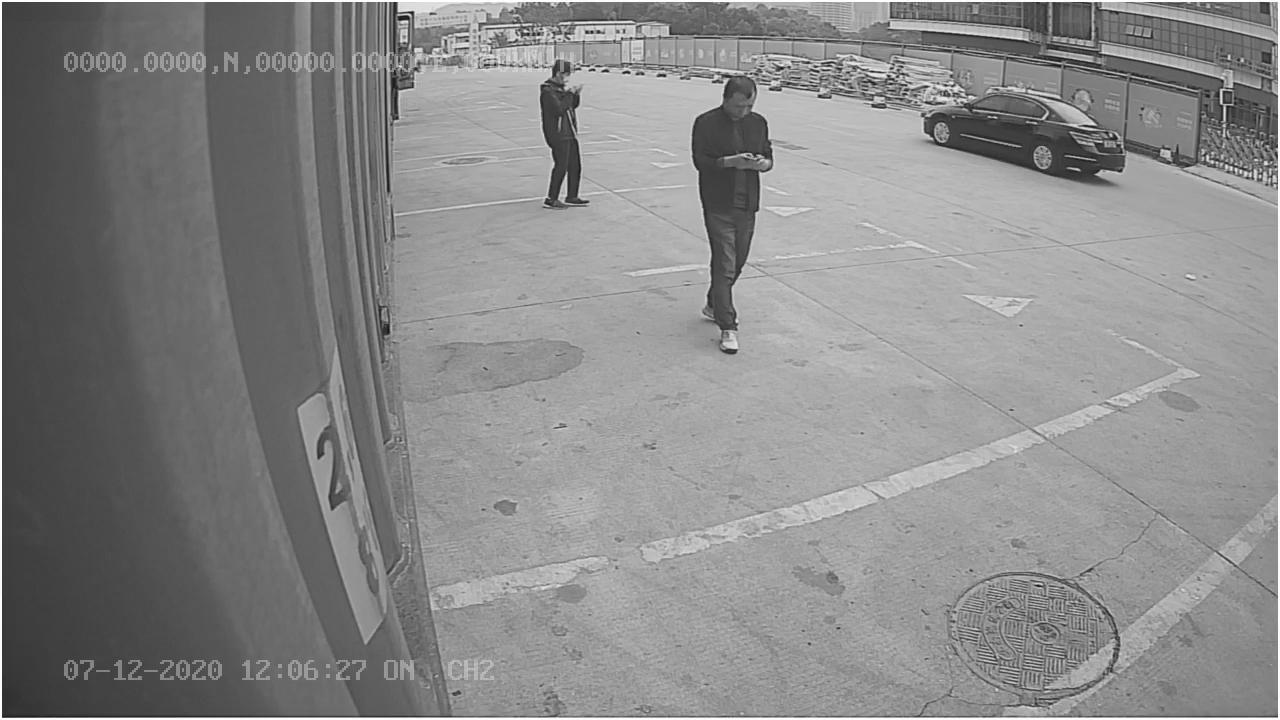person: (691, 70, 774, 356)
